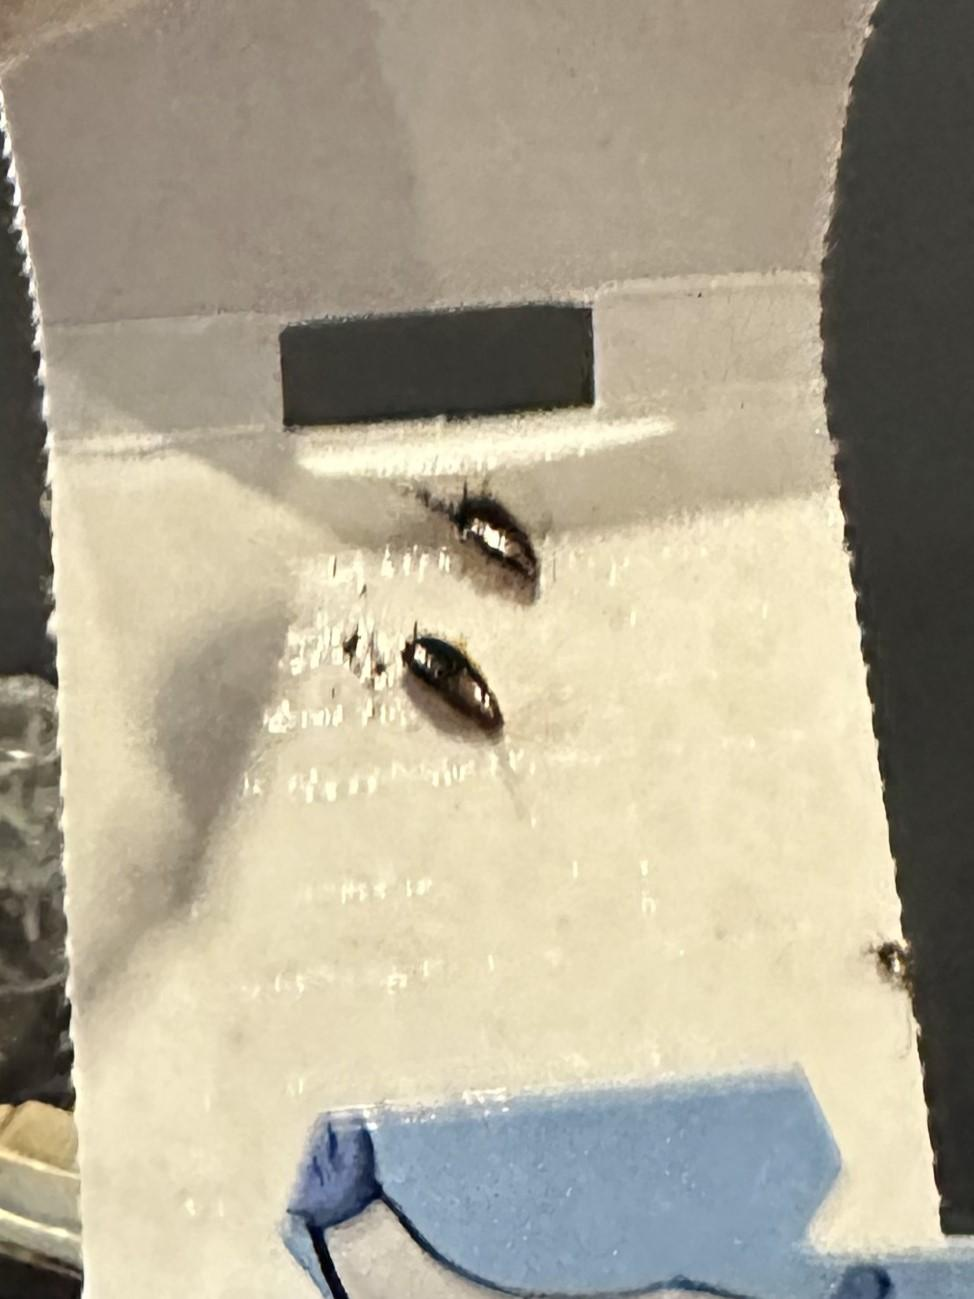cockroach: (315, 598, 614, 841), (367, 443, 593, 589)
